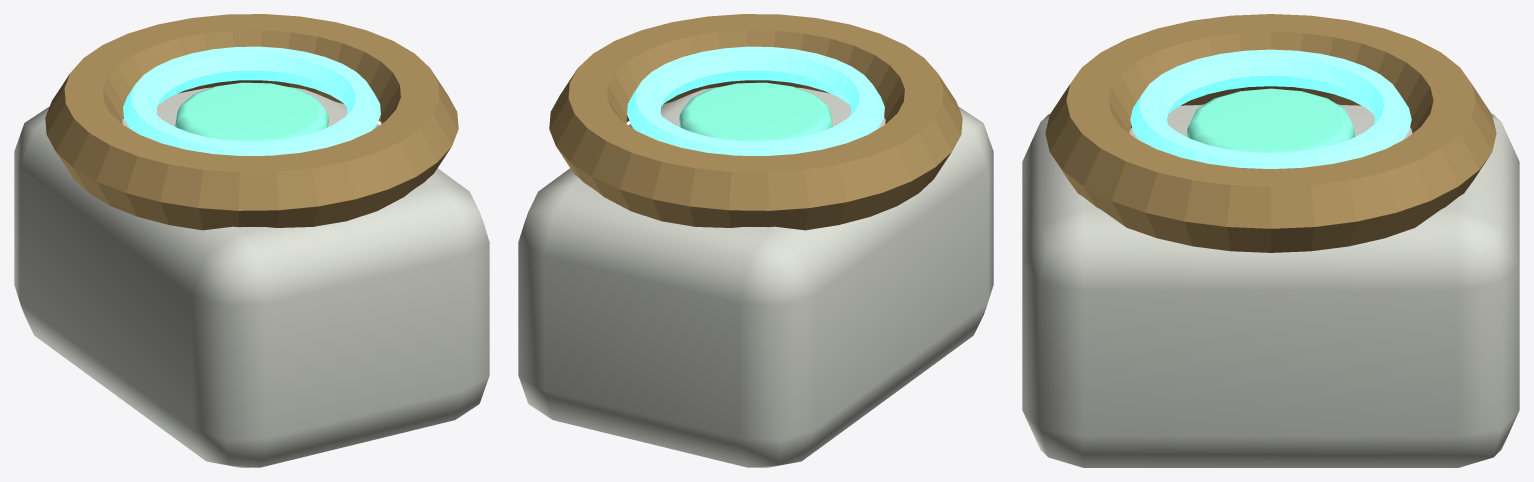
Rendered from artifact.glb.
3 renders of one model, left to right at view 1: azimuth 30°, elevation 25°; view 2: azimuth 150°, elevation 25°; view 3: azimuth 270°, elevation 25°, orthographic. The views are drawn at different scales.
Parts seen in each view (by area): view 1: Resonance gauntlet, Resonance emitter, Resonance core, Emitter lens; view 2: Resonance gauntlet, Resonance emitter, Resonance core, Emitter lens; view 3: Resonance gauntlet, Resonance emitter, Resonance core, Emitter lens.
Boxes of the visible parts, x1,y1,x2,y2 form: Resonance gauntlet: (14, 87, 489, 467); Resonance emitter: (45, 14, 458, 230); Resonance core: (123, 46, 380, 155); Emitter lens: (175, 82, 328, 141); Resonance gauntlet: (518, 87, 993, 467); Resonance emitter: (549, 14, 962, 230); Resonance core: (627, 46, 884, 155); Emitter lens: (679, 82, 832, 141); Resonance gauntlet: (1022, 104, 1519, 467); Resonance emitter: (1045, 14, 1496, 252); Resonance core: (1130, 49, 1411, 168); Emitter lens: (1187, 88, 1354, 152).
Bounding box in the file's own units: 0.59 × 0.4526 × 0.65.
